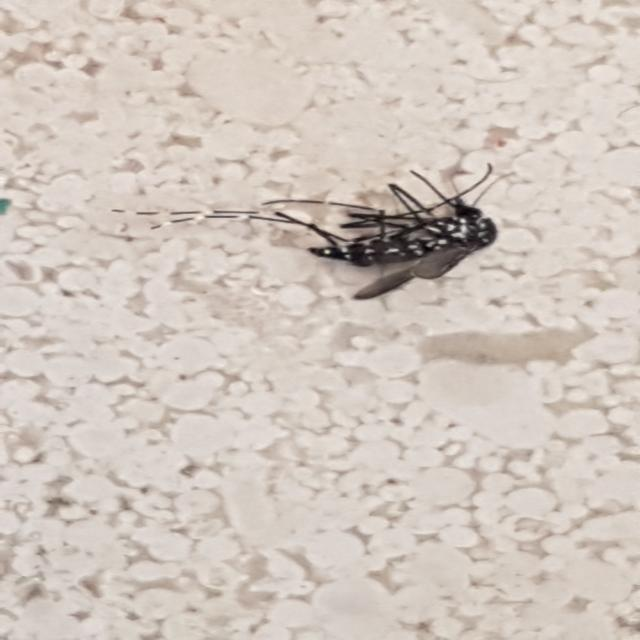albopictus: (121, 146, 530, 302)
